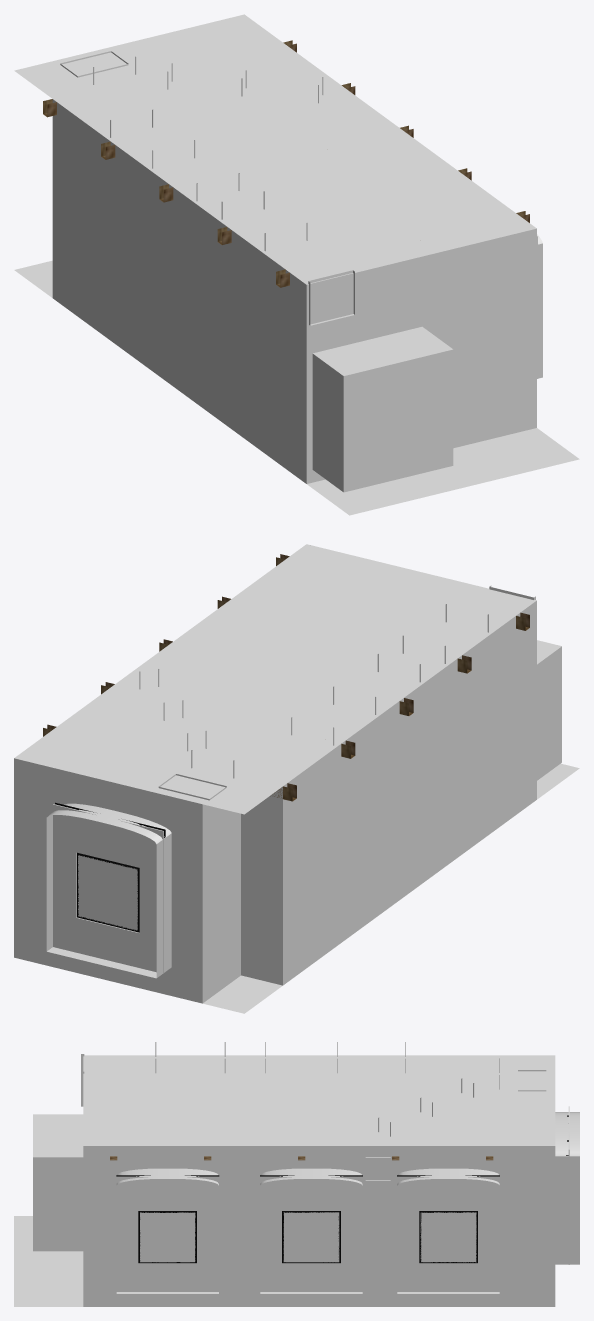
File: laboratory_v3.fbx
3 views of the same model, one above another, from view 1: azimuth 30°, elevation 25°; view 2: azimuth 150°, elevation 25°; view 3: azimuth 270°, elevation 25° (orthographic). The views are drawn at different scales.
Parts seen in each view (by area): view 1: ceiling, walls, wall_door, floor, wood_beams, duct; view 2: walls, ceiling, window-frame, window, wall_door, floor, wood_beams, duct; view 3: walls, ceiling, window-frame.004, window-frame.002, window-frame.003, wall_door, floor, window.004, window.002, window.003, duct.
Part boxes in pixels (<box>): ceiling: <box>14,14,536,284</box>; walls: <box>52,99,542,483</box>; wall_door: <box>306,228,536,492</box>; floor: <box>14,260,579,515</box>; wood_beams: <box>43,40,529,287</box>; duct: <box>60,51,354,325</box>; walls: <box>14,600,536,1003</box>; ceiling: <box>14,544,536,814</box>; window-frame: <box>52,802,165,973</box>; window: <box>77,853,139,931</box>; wall_door: <box>537,640,561,780</box>; floor: <box>203,763,579,1013</box>; wood_beams: <box>43,554,529,801</box>; duct: <box>139,585,535,800</box>; walls: <box>83,1112,579,1306</box>; ceiling: <box>83,1055,555,1145</box>; window-frame.004: <box>116,1175,219,1291</box>; window-frame.002: <box>397,1175,499,1291</box>; window-frame.003: <box>260,1175,362,1291</box>; wall_door: <box>33,1114,83,1251</box>; floor: <box>14,1216,83,1306</box>; window.004: <box>139,1211,196,1262</box>; window.002: <box>420,1211,476,1262</box>; window.003: <box>283,1211,339,1262</box>; duct: <box>81,1042,546,1180</box>.
Bounding box in the file's own units: 6.48 × 5.04 × 14.76.
